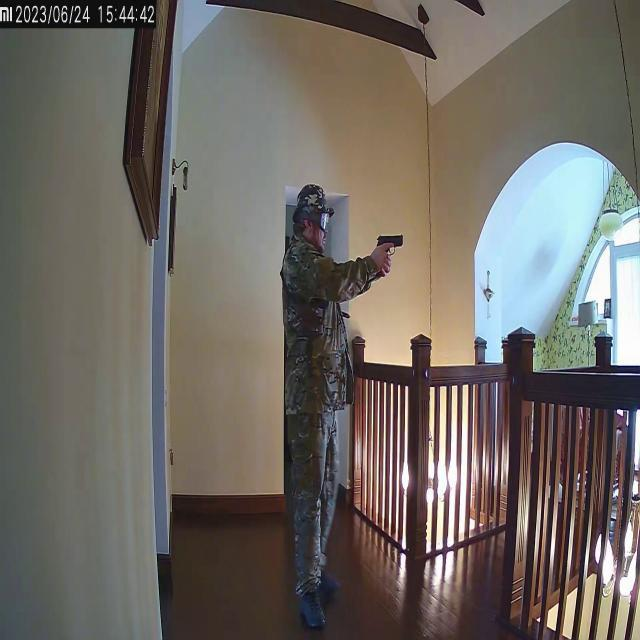pistol: (376, 231, 406, 261)
